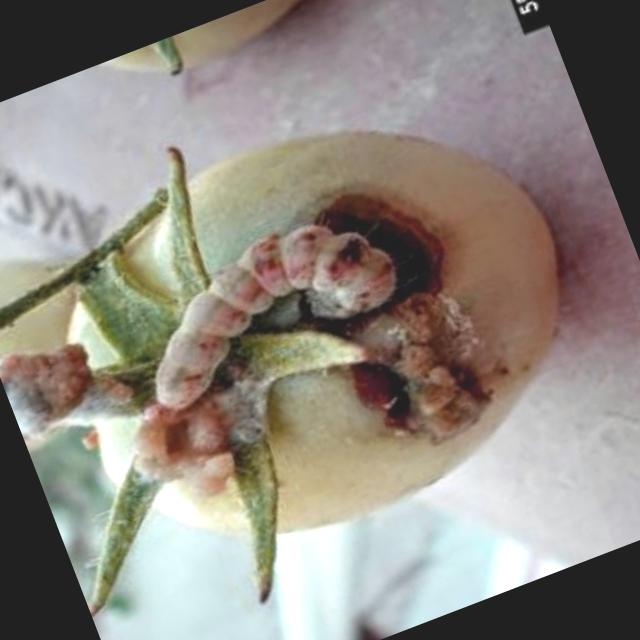Cotton bollworm: (84, 142, 489, 485)
